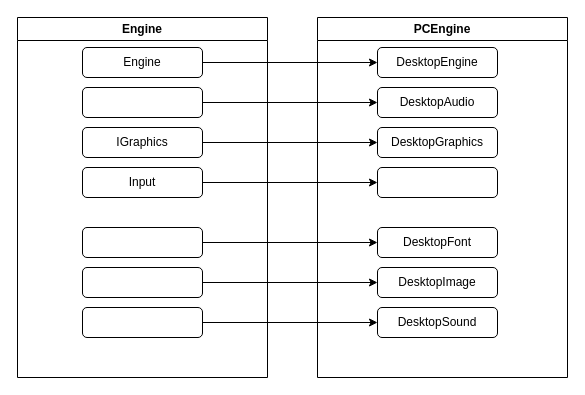
The diagram is 585 pixels wide and 395 high, and some of its shapes have lost their labels. Here are the shapes that lost their labels. From the top down, the box of each, then its label:
(82, 86, 202, 118): IAudio
(376, 166, 498, 198): DesktopInput
(82, 226, 202, 258): IFont
(82, 266, 202, 298): IImage
(82, 306, 202, 338): ISound
